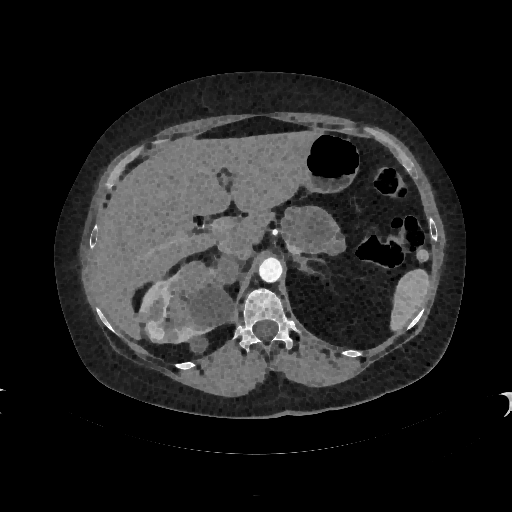Lesion: (143, 318, 170, 345)
